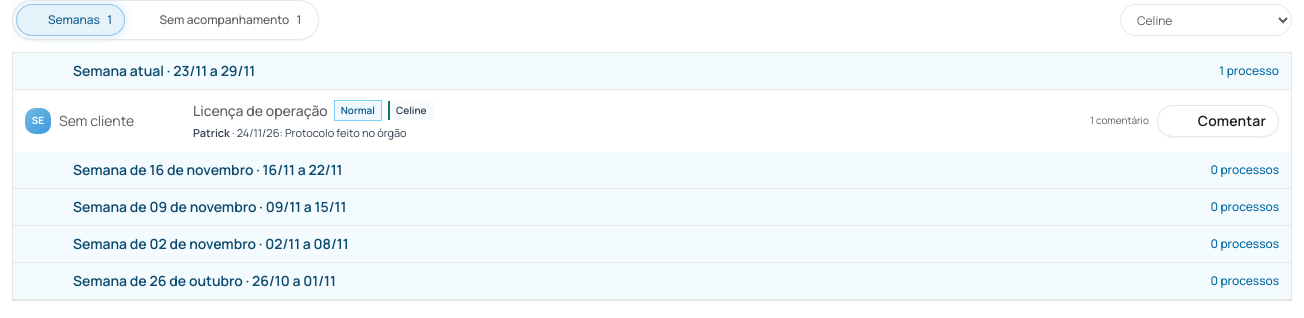
Test: FollowUpView › lists processes without follow-up, never commented in “more than 90 days”
Click the button "Sem acompanhamento 1" at coordinates (221, 20), box [127,4,315,36]
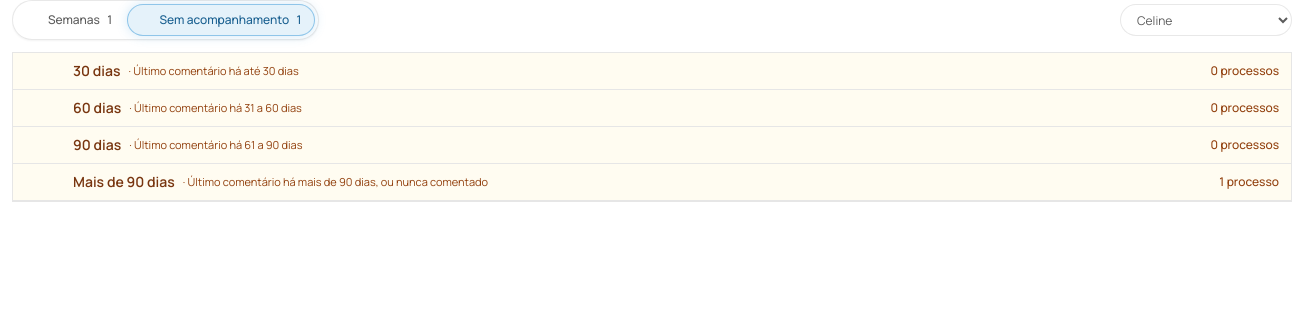
Click the button "Mais de 90 dias" at coordinates (124, 182), box [13,164,1291,201]
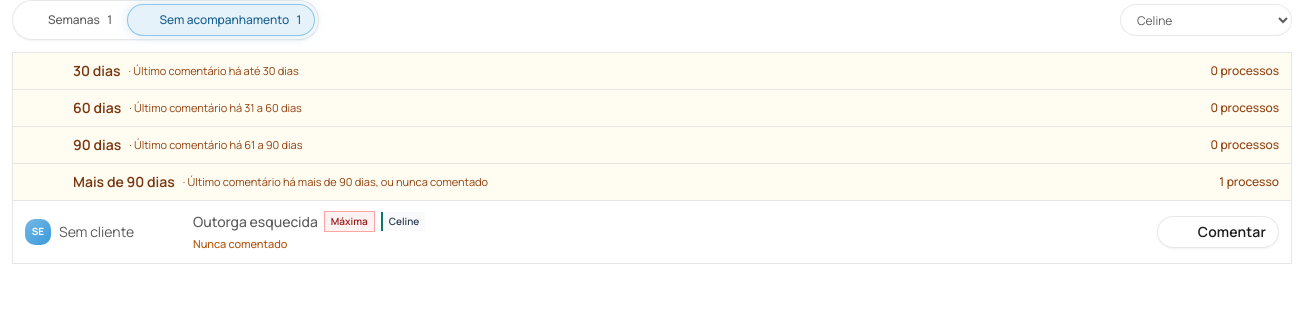
Expected: the text "Licença de operação" is not shown
Expected: the text "Outorga esquecida" is shown, [193,212,318,232]
Expected: the text "Nunca comentado" is shown, [193,236,287,251]
